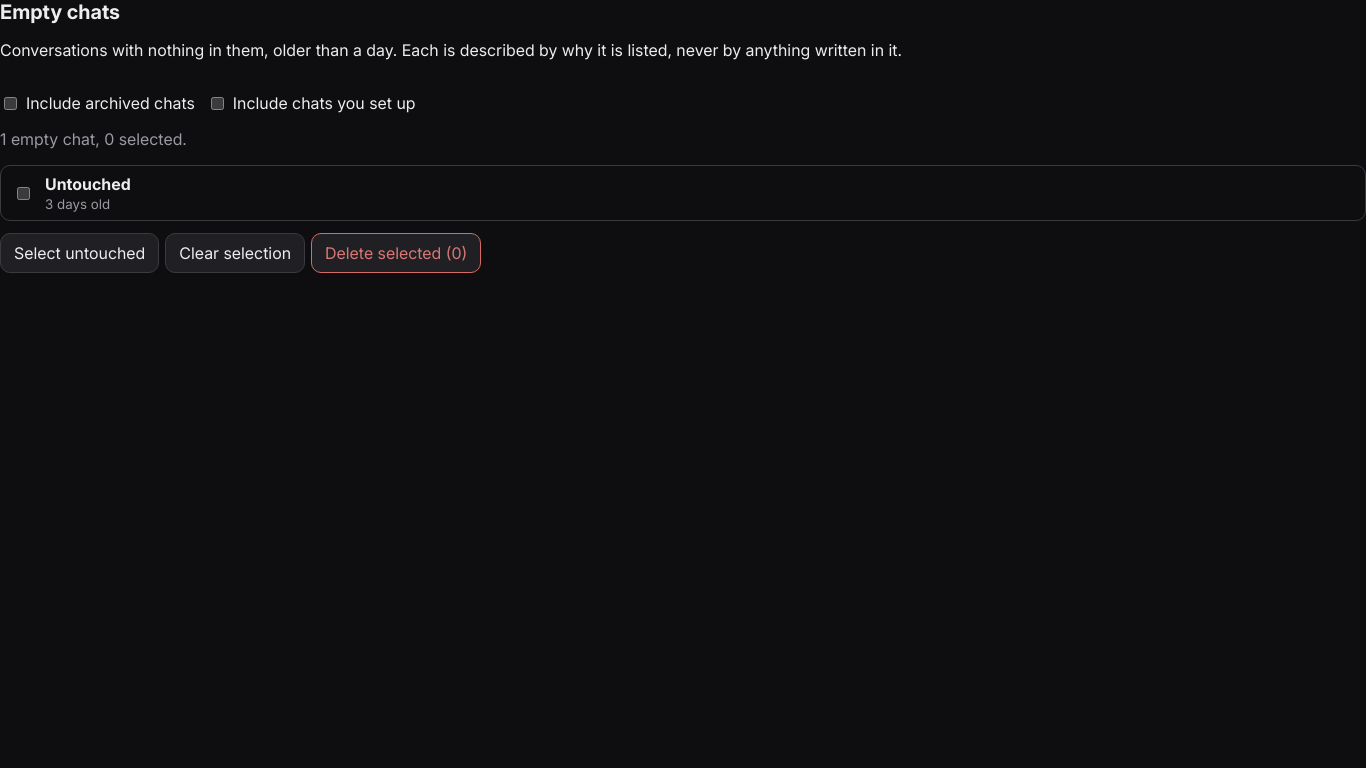
Test: EmptyChatMaintenance › says what to do next when the server refuses, and reports no deletion
This screenshot has width=1366, height=768.
Click the checkbox named "old": (24, 193) [17,186,30,200]
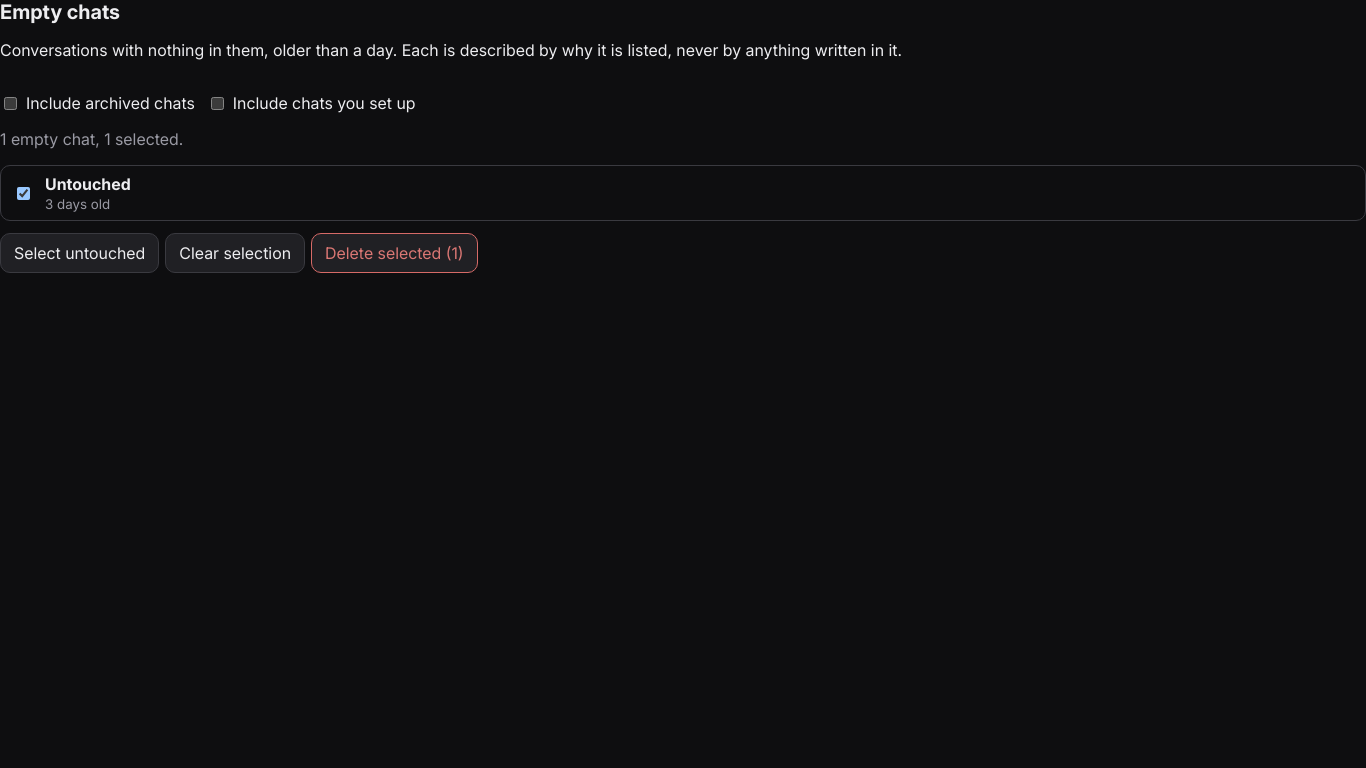
Click the button "Delete selected (1)": (394, 253) [311,233,478,273]
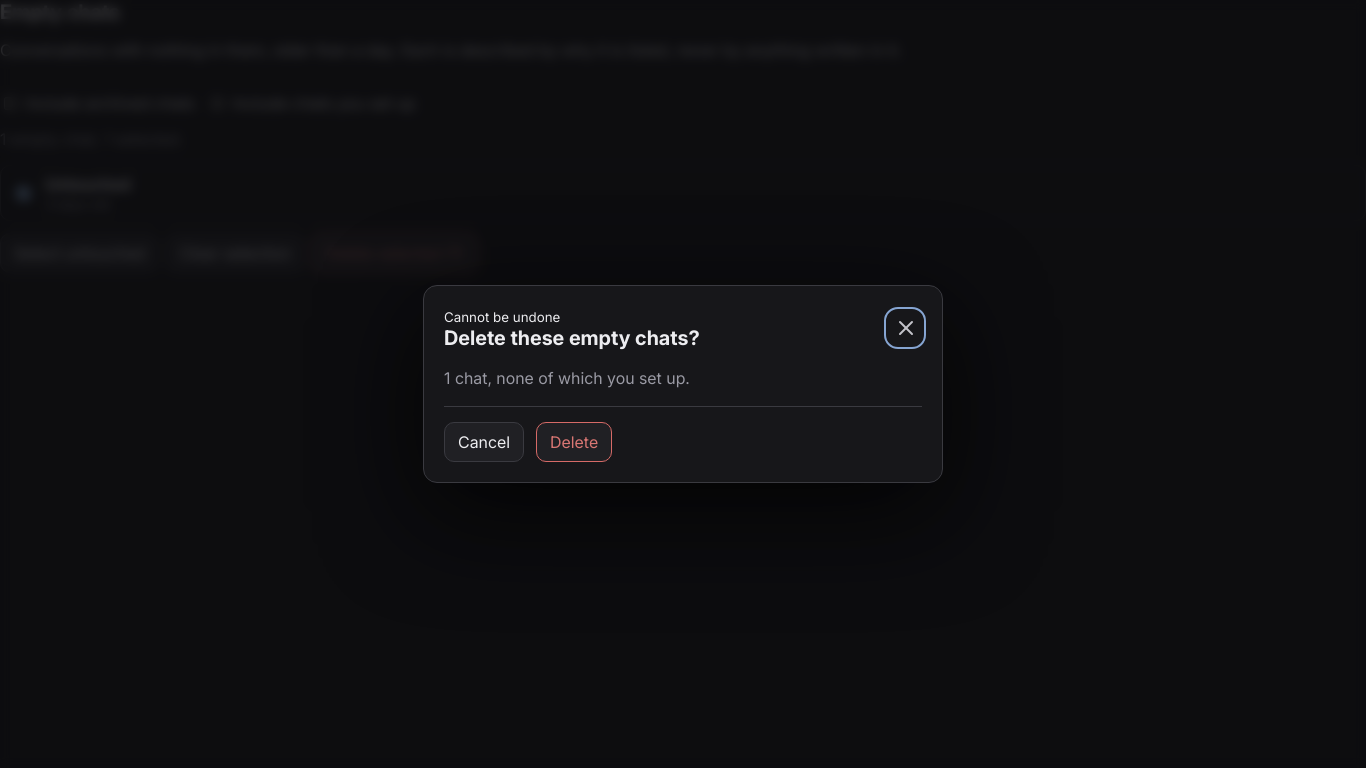
Click the button "Delete": (574, 442) [536,422,612,462]
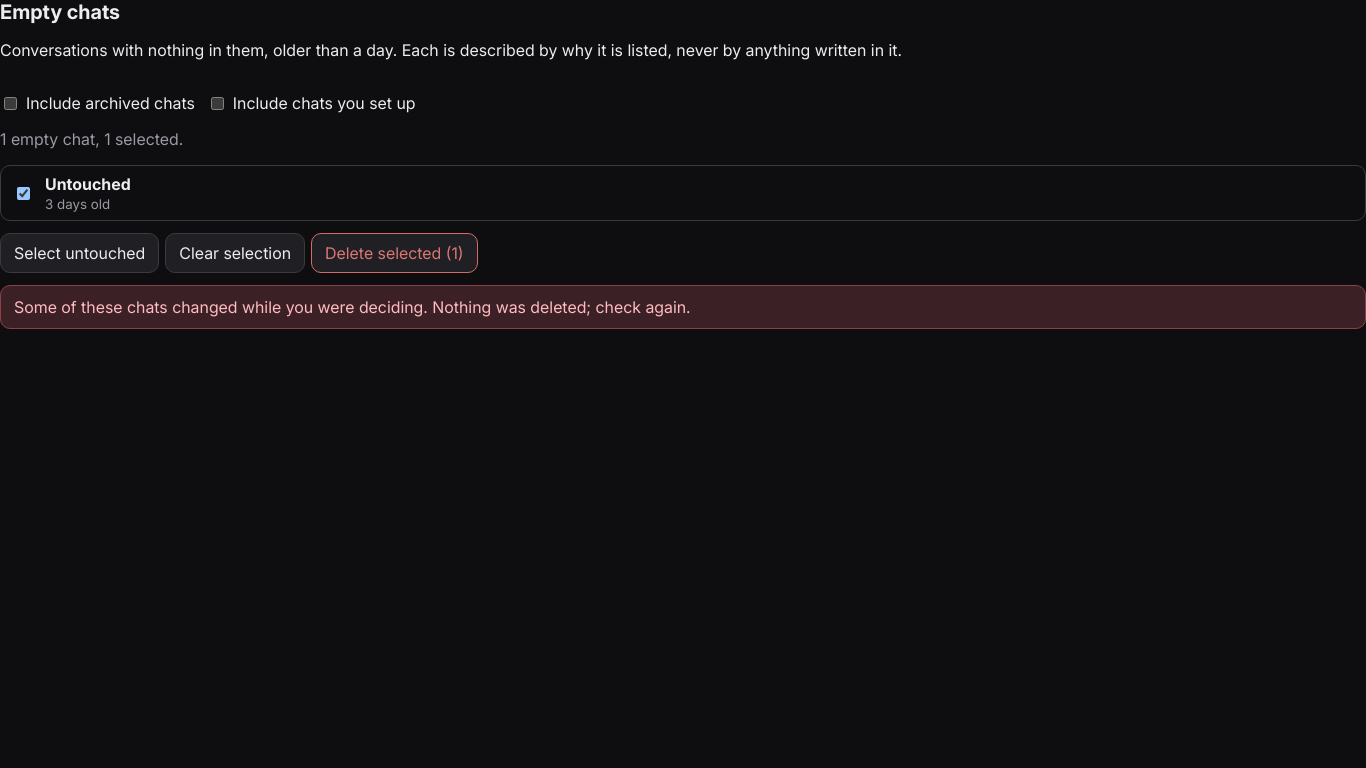
Now the 2nd message shows "changed while you were deciding", box [14,297,691,317]
